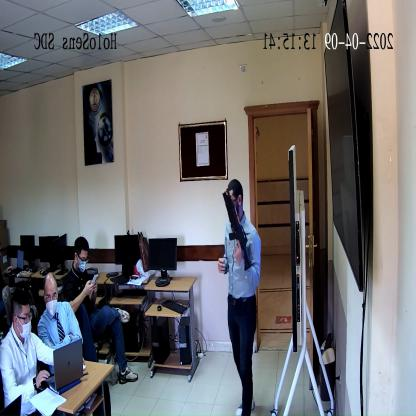handgun: (223, 193, 252, 272)
